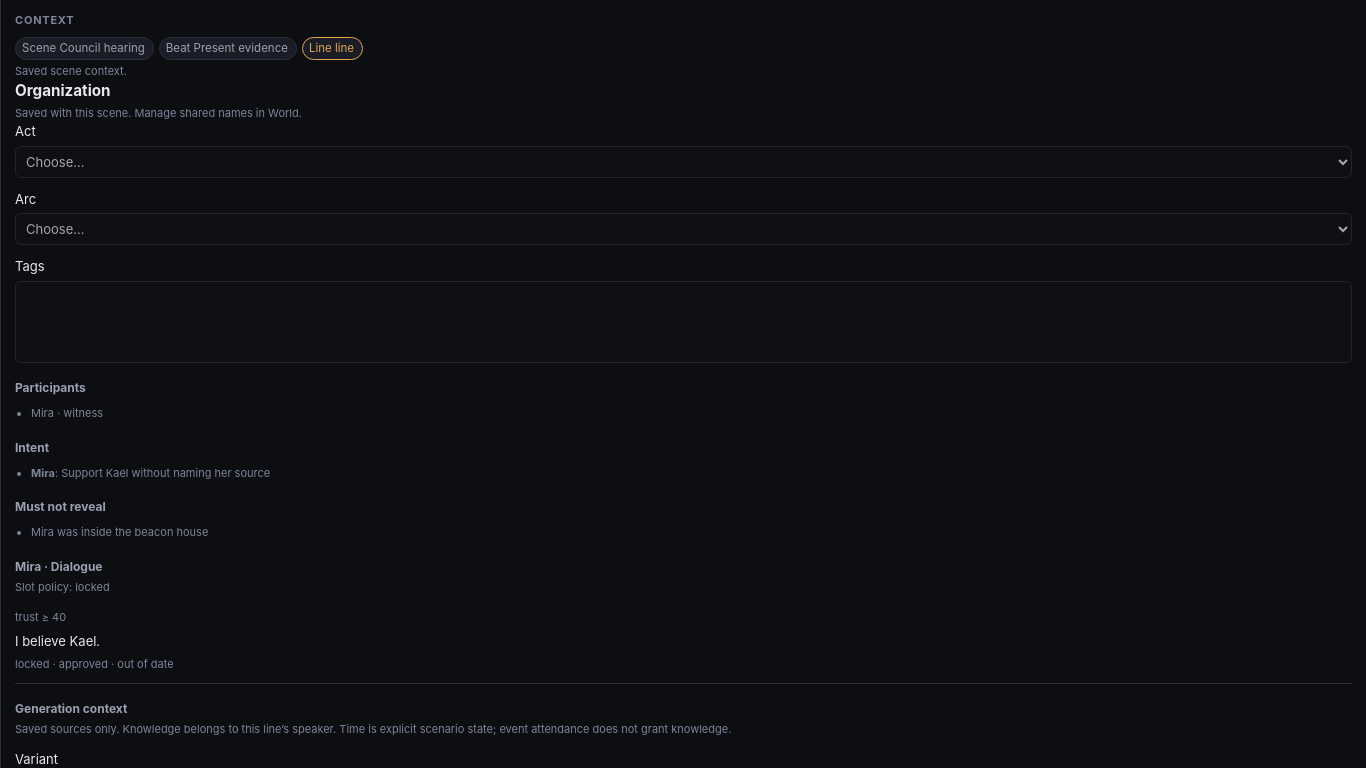
it: resolves saved context and keeps variant conditions and editorial dimensions separate
The image size is (1366, 768).
Expected: the list item "Mira · witness" is shown, x1=31 y1=406 x2=103 y2=420
Expected: the list item "Mira was inside the beacon house" is shown, x1=31 y1=525 x2=208 y2=539
Click the button "Scene Council hearing" at x=84, y=48, box x1=15 y1=36 x2=154 y2=60
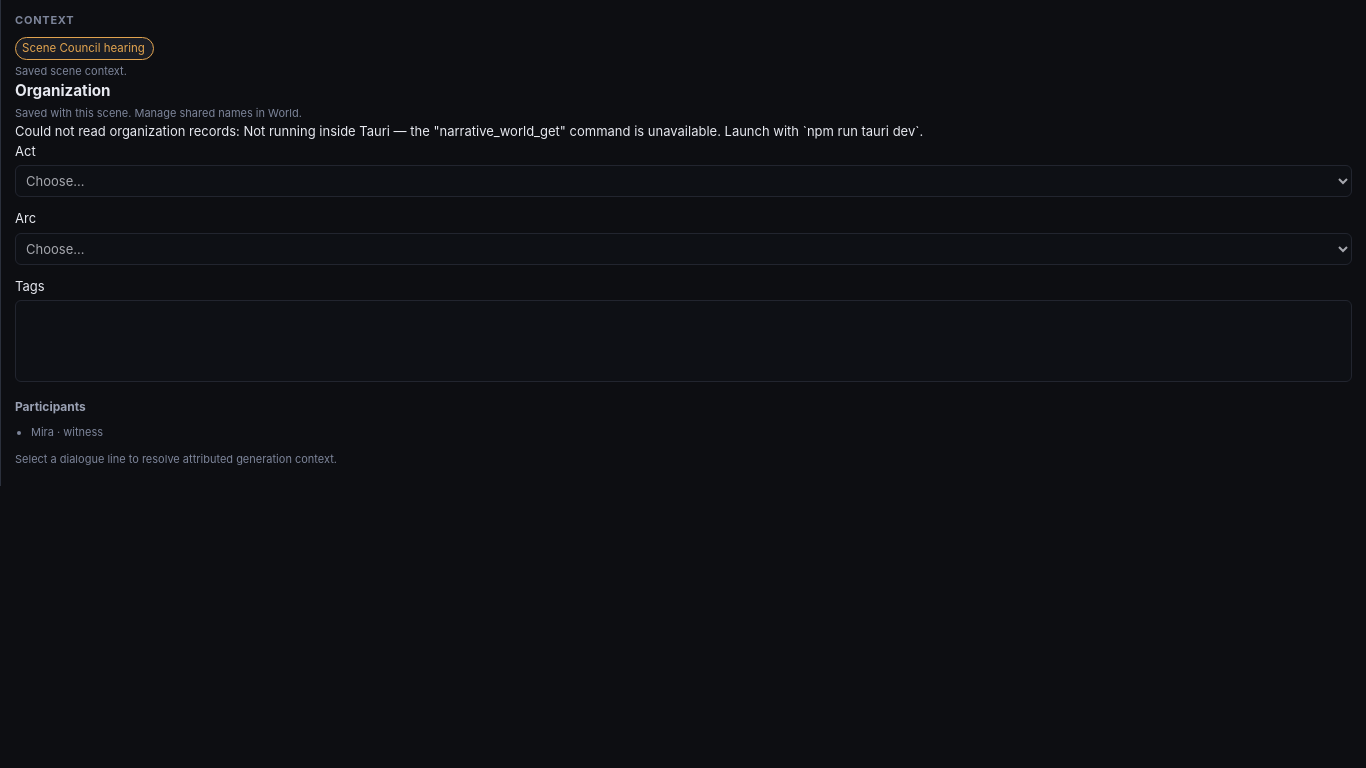
Now the text "I believe Kael." is gone
